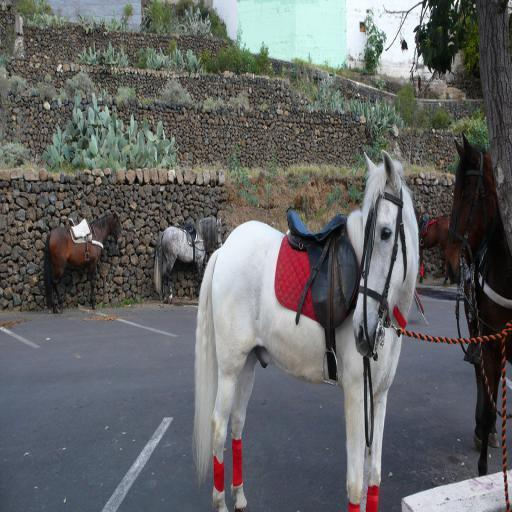horse: (190, 148, 422, 512), (442, 127, 512, 474), (42, 210, 122, 316), (152, 210, 226, 306), (416, 210, 450, 282)
